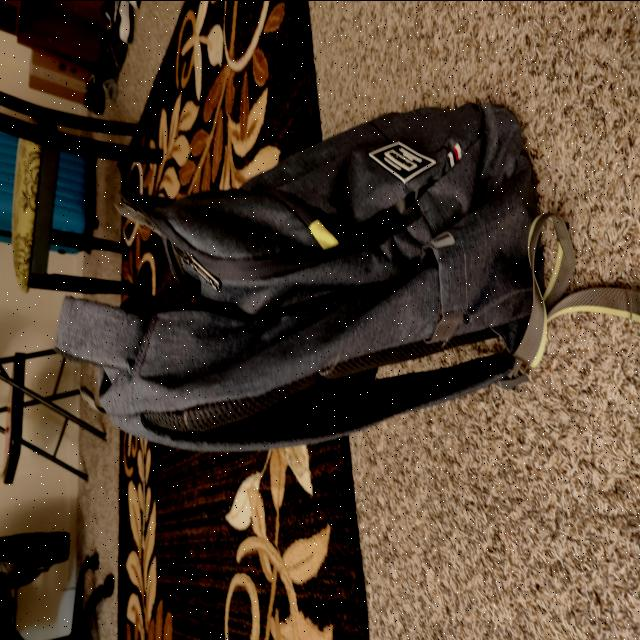bag: (70, 124, 554, 438)
